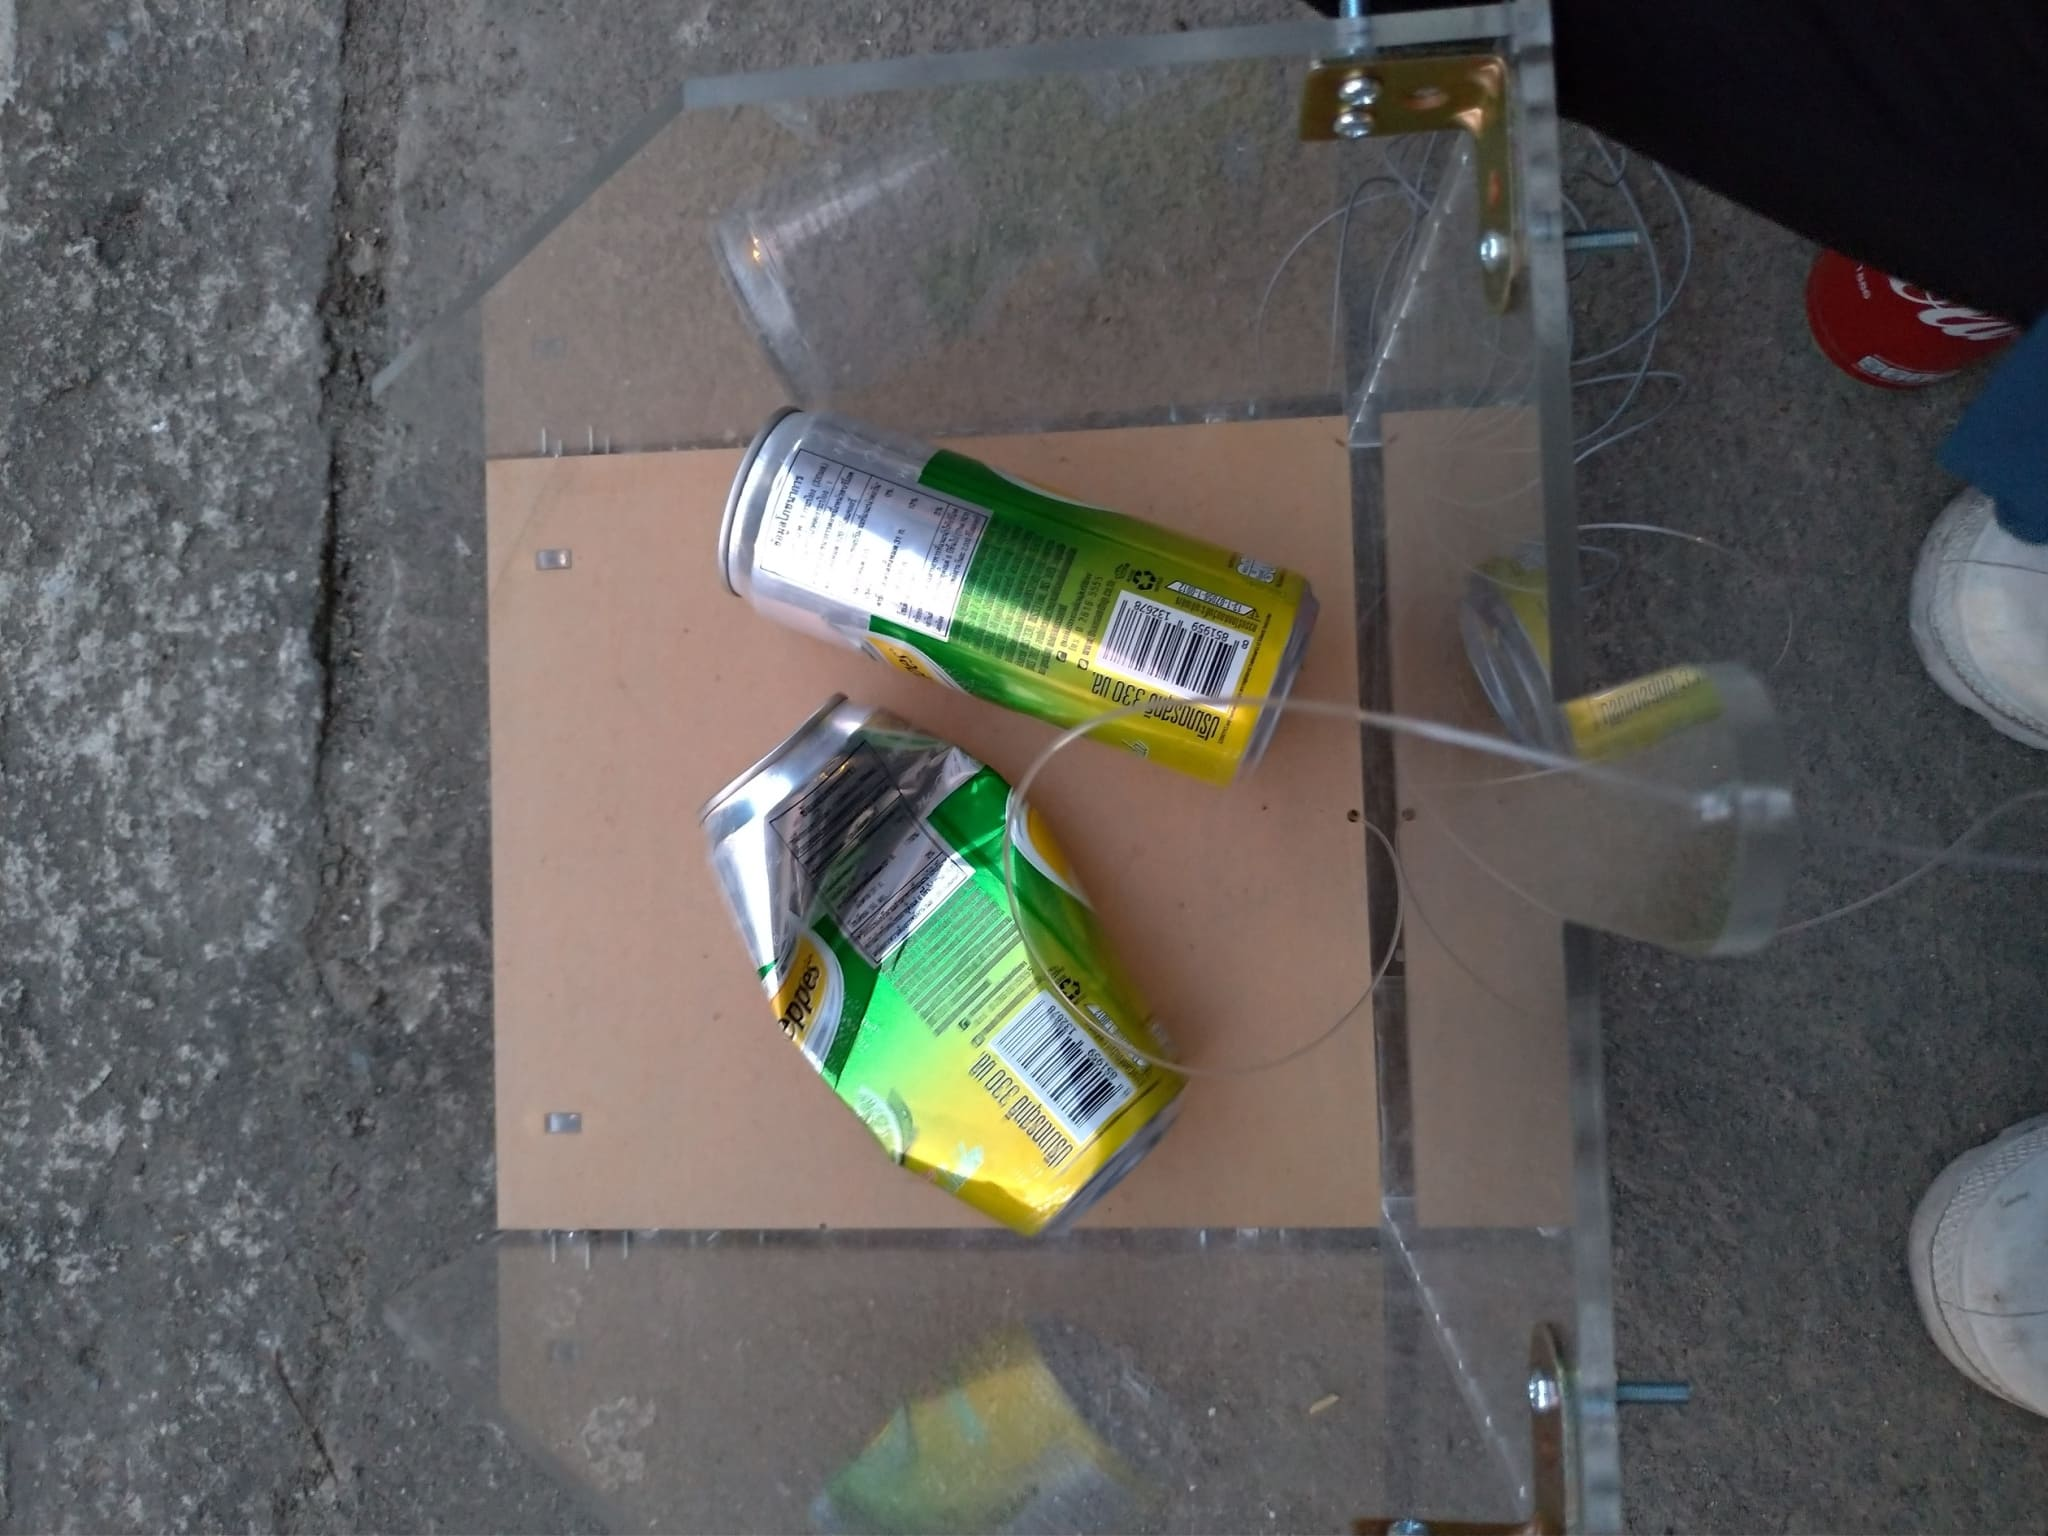AlCan: (697, 695, 1182, 1229), (714, 410, 1314, 783), (1806, 240, 2016, 387)
